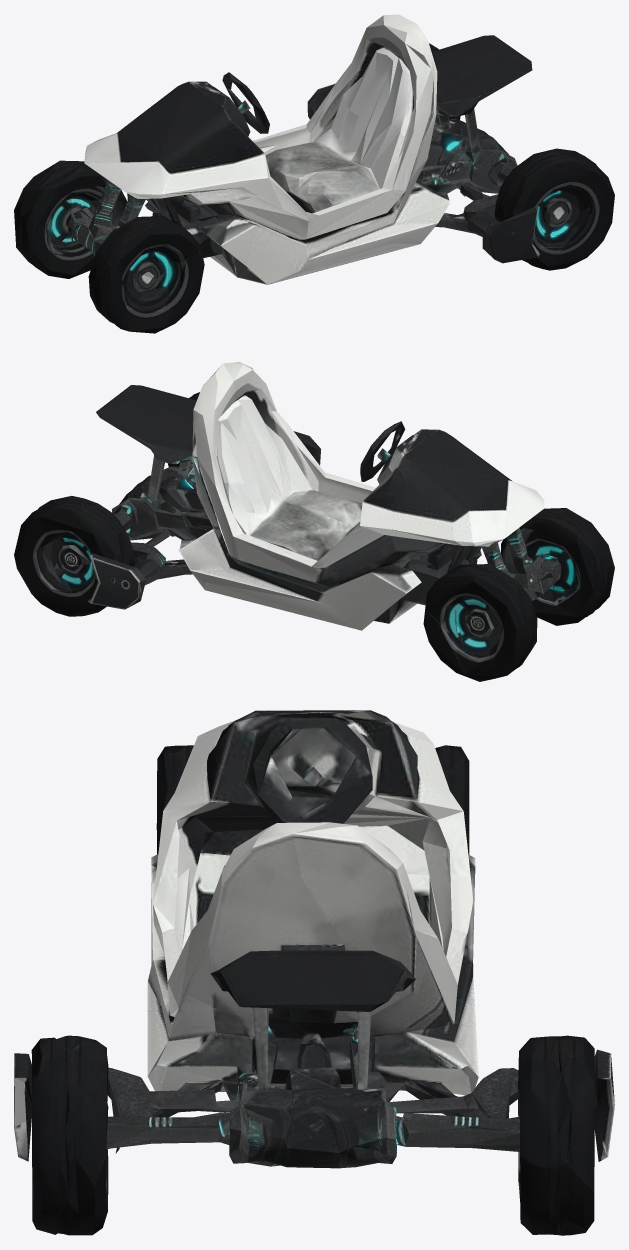
File: kart.glb
3 renders of one model, top to bottom at view 1: azimuth 30°, elevation 25°; view 2: azimuth 150°, elevation 25°; view 3: azimuth 270°, elevation 25°, orthographic. The views are drawn at different scales.
Bounding box in the file's own units: 1.9 × 0.794 × 1.27.
1 material, 1 textured.
